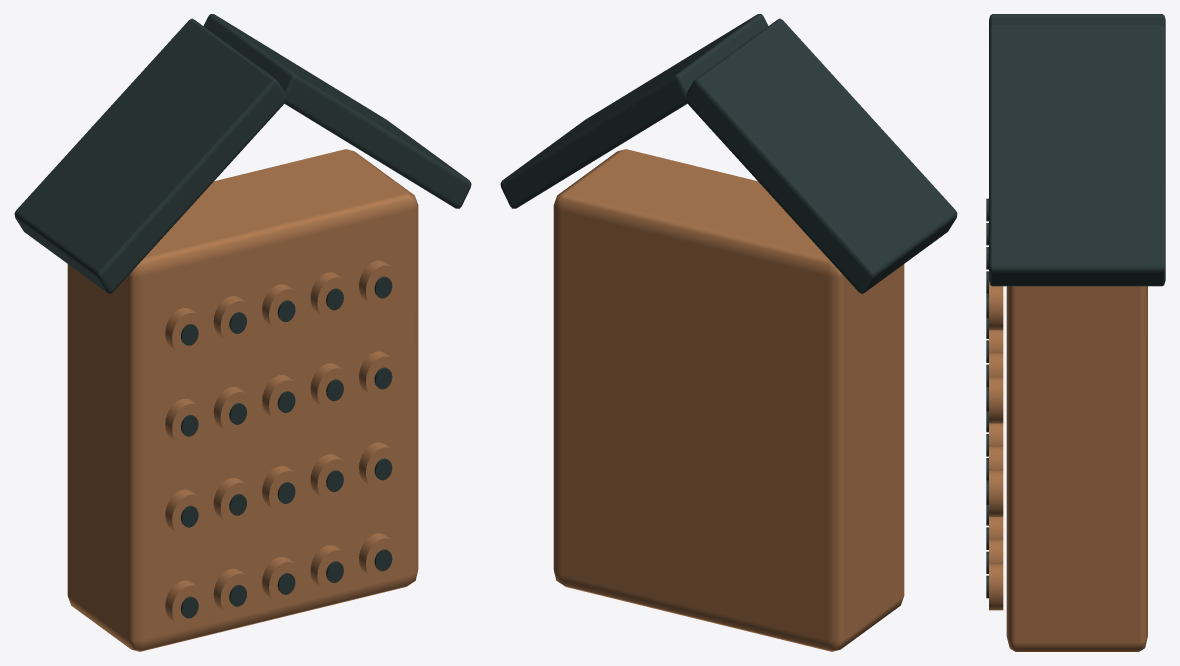
The model's file is wp-hotel-a-insectes.glb.
The picture shows the model from 3 angles, left to right: view 1: azimuth 30°, elevation 25°; view 2: azimuth 150°, elevation 25°; view 3: azimuth 270°, elevation 25°; orthographic projection. The views are drawn at different scales.
Visible parts, largest first — view 1: wp-hotel-a-insectes; view 2: wp-hotel-a-insectes; view 3: wp-hotel-a-insectes.
Part boxes in pixels (x1,y1,x2,y2): wp-hotel-a-insectes: (14,14,471,651); wp-hotel-a-insectes: (500,14,957,651); wp-hotel-a-insectes: (986,14,1165,651).
Bounding box in the file's own units: 0.4953 × 0.6972 × 0.2.
